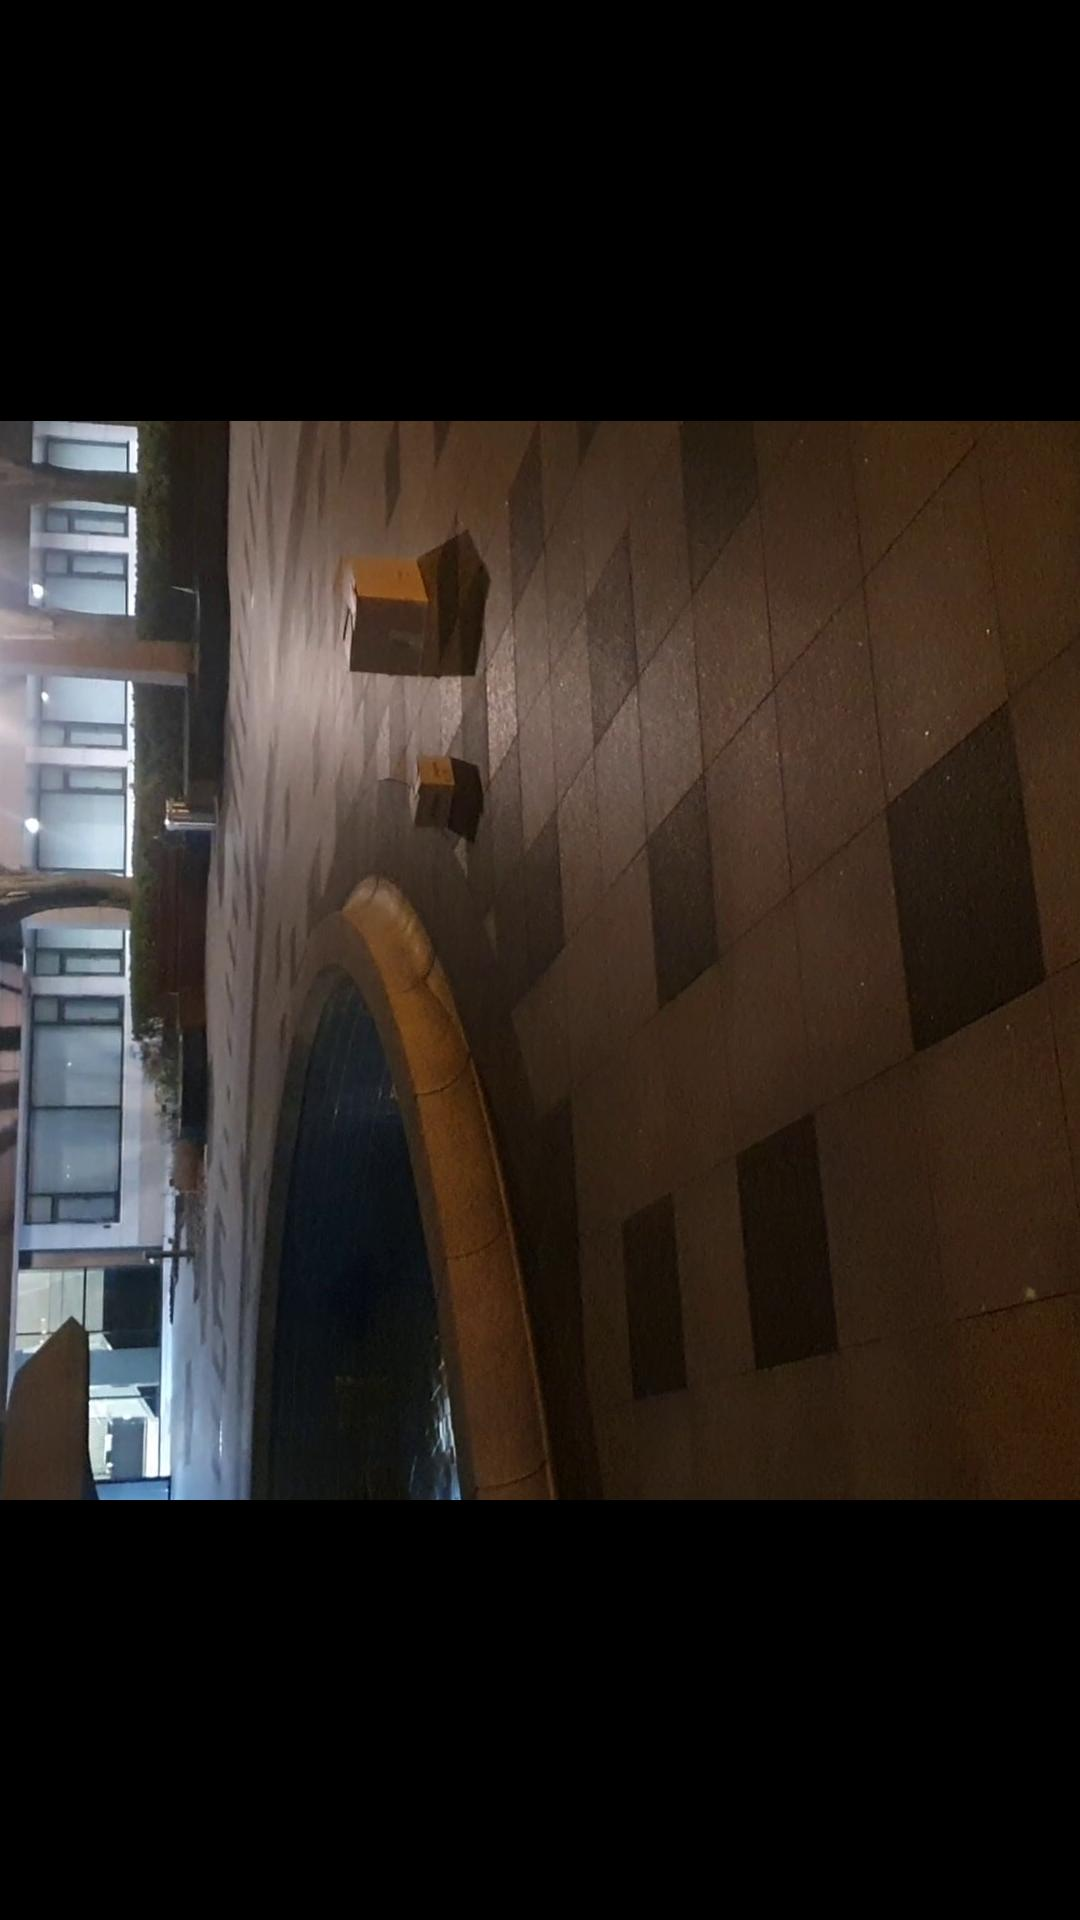Box: (334, 541, 463, 679), (400, 742, 467, 843)
